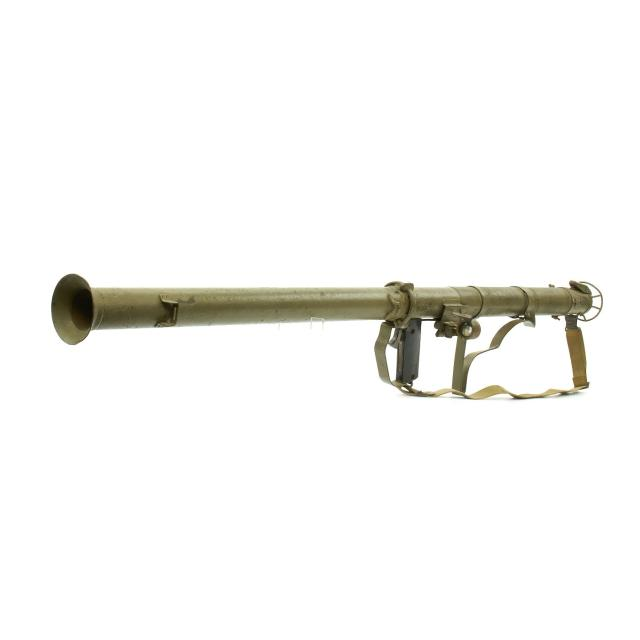bazooka: (48, 273, 606, 405)
